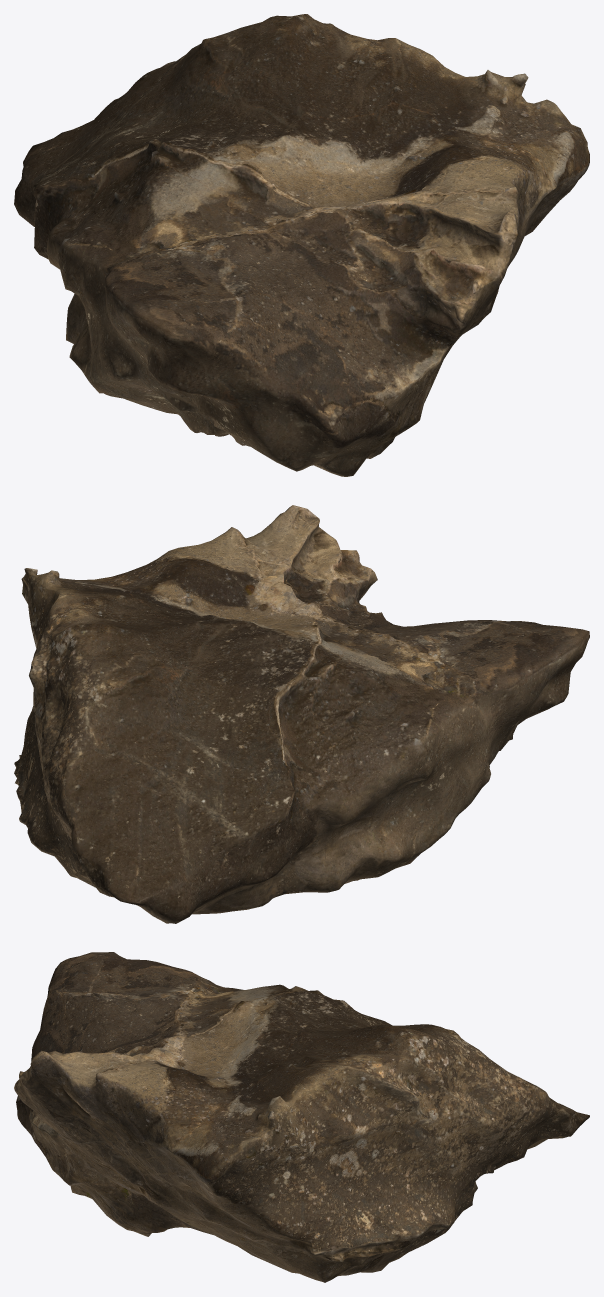
The model's file is tdpscfcda_tier_2.gltf.
The picture shows the model from 3 angles, top to bottom: view 1: azimuth 30°, elevation 25°; view 2: azimuth 150°, elevation 25°; view 3: azimuth 270°, elevation 25°; orthographic projection. The views are drawn at different scales.
Parts seen in each view (by area): view 1: tdpscfcda_LOD0_TIER2_000; view 2: tdpscfcda_LOD0_TIER2_000; view 3: tdpscfcda_LOD0_TIER2_000.
Part boxes in pixels (left/top/right/bottom): tdpscfcda_LOD0_TIER2_000: left=14, top=14, right=589, bottom=476; tdpscfcda_LOD0_TIER2_000: left=14, top=505, right=589, bottom=923; tdpscfcda_LOD0_TIER2_000: left=14, top=952, right=589, bottom=1282.
Size of the model in its own units: 1.72 by 0.9286 by 2.01.
Materials: 1 (1 with a texture image).
